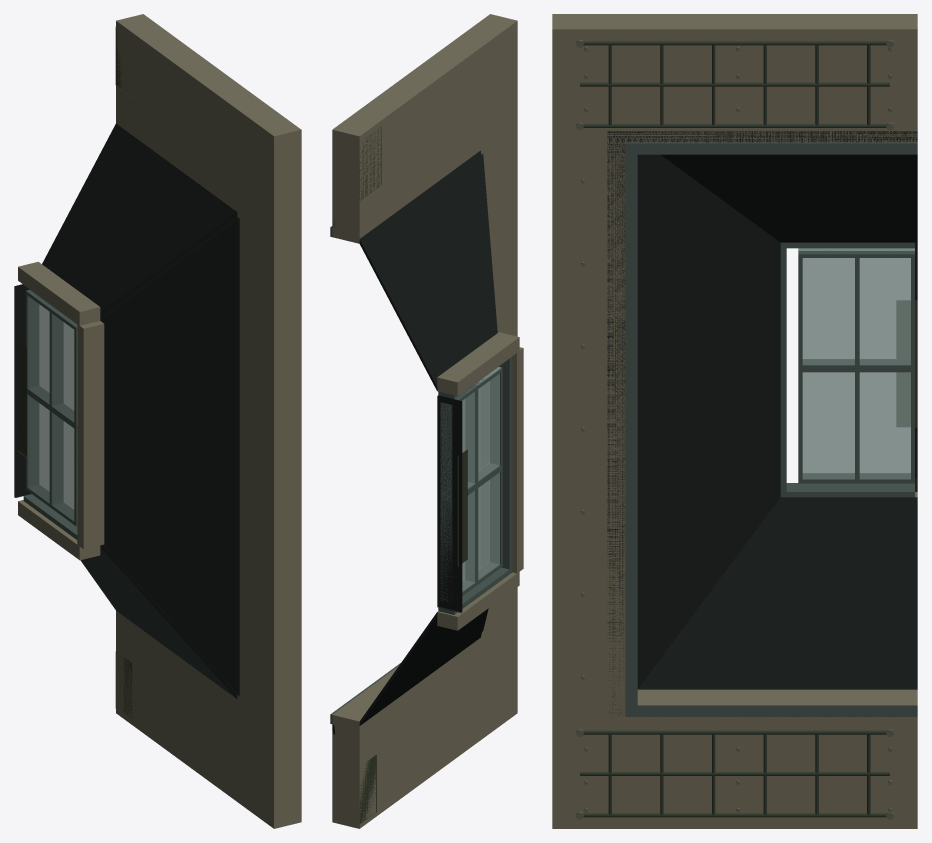
The model's file is VD_RootsteadEntryPortal.obj.
3 views of the same model, side by side, from view 1: azimuth 30°, elevation 25°; view 2: azimuth 150°, elevation 25°; view 3: azimuth 270°, elevation 25° (orthographic). The views are drawn at different scales.
Parts seen in each view (by area): view 1: VD_RootsteadEntryPortal; view 2: VD_RootsteadEntryPortal; view 3: VD_RootsteadEntryPortal.
Boxes of the visible parts, x1,y1,x2,y2 form: VD_RootsteadEntryPortal: [14, 14, 301, 828]; VD_RootsteadEntryPortal: [330, 14, 523, 828]; VD_RootsteadEntryPortal: [552, 14, 917, 828].
Bounding box in the file's own units: 573 × 2900 × 1200.
